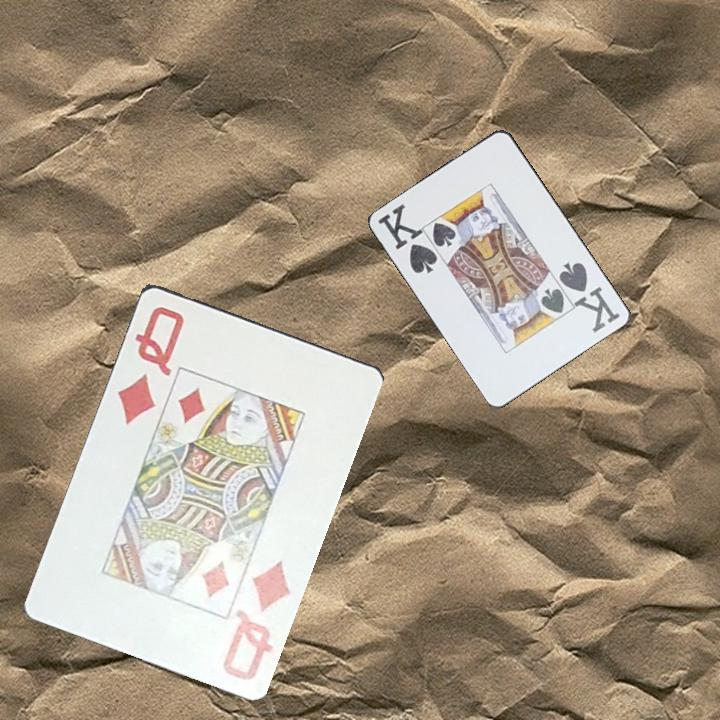Ks: (556, 258, 624, 335), (374, 201, 441, 277)
Qd: (218, 557, 294, 683), (114, 302, 187, 427)
